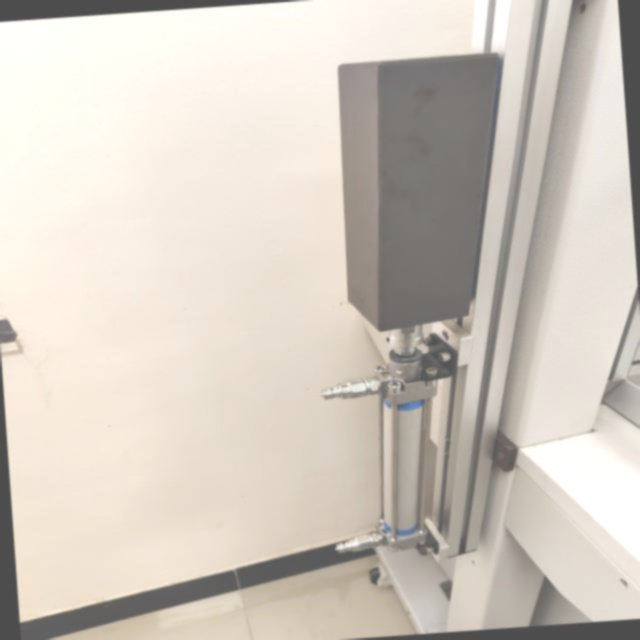load: (292, 46, 552, 567)
